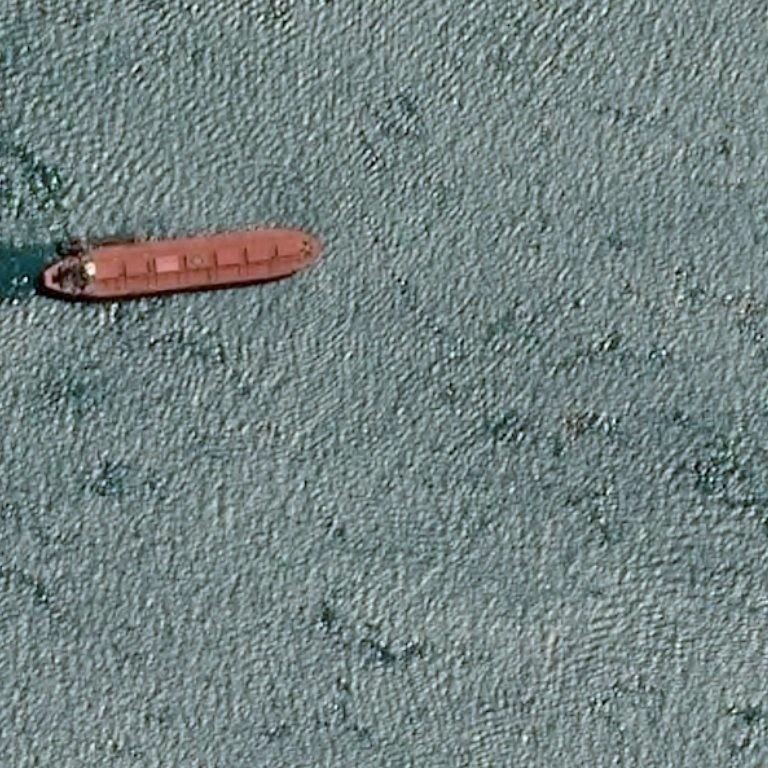ship: (32, 255, 338, 274), (313, 240, 325, 252), (40, 265, 50, 275), (41, 50, 49, 58)
